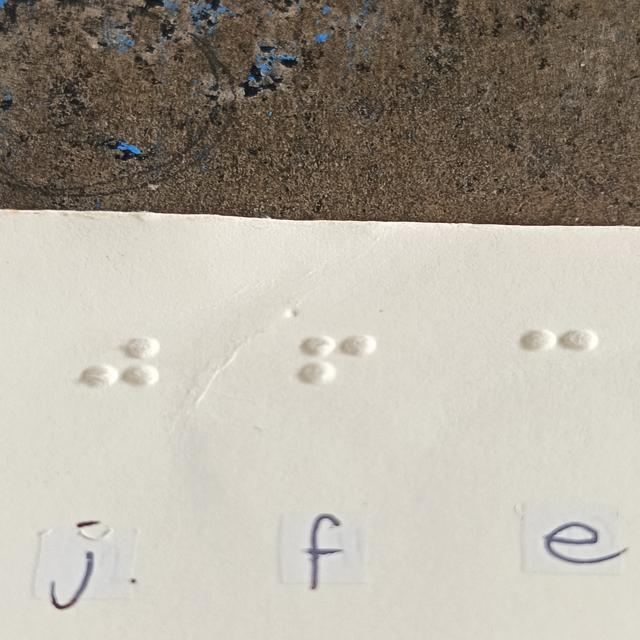e: (523, 329, 600, 407)
j: (298, 336, 375, 415), (80, 338, 157, 416)
